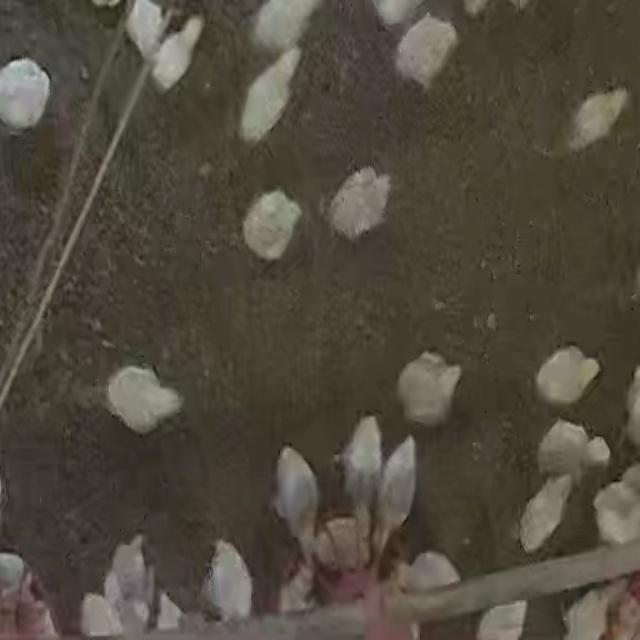chicken: (235, 46, 305, 149), (544, 86, 630, 161), (108, 361, 186, 435), (269, 444, 317, 563), (372, 435, 421, 550), (339, 418, 380, 541), (329, 166, 394, 241), (394, 18, 459, 91), (517, 475, 575, 554), (535, 422, 612, 481), (400, 353, 463, 425), (199, 541, 252, 622), (534, 346, 605, 406), (244, 190, 302, 262), (594, 461, 640, 551), (153, 17, 206, 95), (106, 536, 160, 606), (558, 580, 618, 640), (393, 550, 466, 595), (250, 0, 320, 44), (317, 520, 374, 570), (127, 0, 169, 64), (480, 596, 537, 640), (271, 567, 318, 616), (75, 592, 120, 639)
